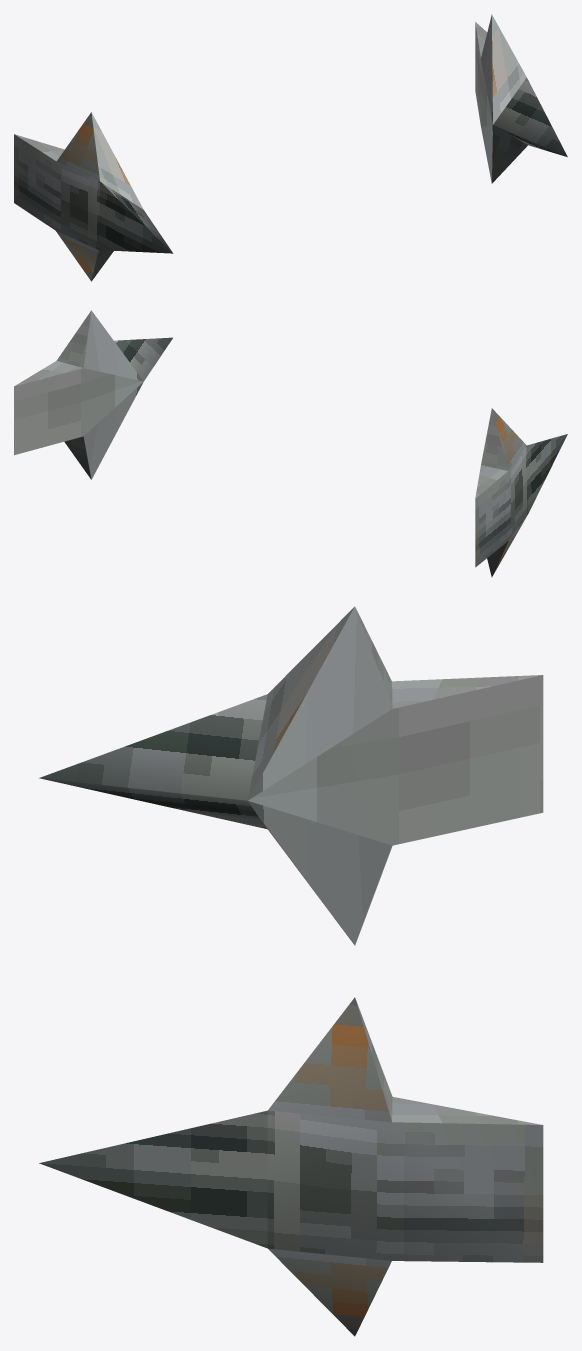
The model's file is kse_firespray_weapon2_s05_l2.fbx.
3 renders of one model, top to bottom at view 1: azimuth 30°, elevation 25°; view 2: azimuth 150°, elevation 25°; view 3: azimuth 270°, elevation 25°, orthographic. The views are drawn at different scales.
Parts seen in each view (by area): view 1: mesh_node; view 2: mesh_node; view 3: mesh_node.
Boxes of the visible parts, x1,y1,x2,y2 form: mesh_node: [14, 14, 567, 281]; mesh_node: [14, 310, 567, 577]; mesh_node: [39, 606, 543, 1336].
Bounding box in the file's own units: 4.65 × 1.64 × 2.2.
